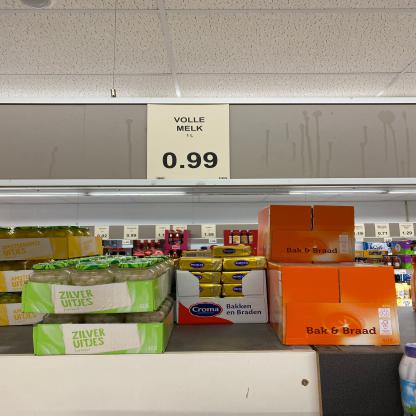prtg: (147, 105, 232, 181), (356, 225, 392, 239), (202, 226, 218, 240), (124, 226, 140, 240), (400, 224, 416, 238), (157, 226, 171, 240), (96, 227, 111, 240)
